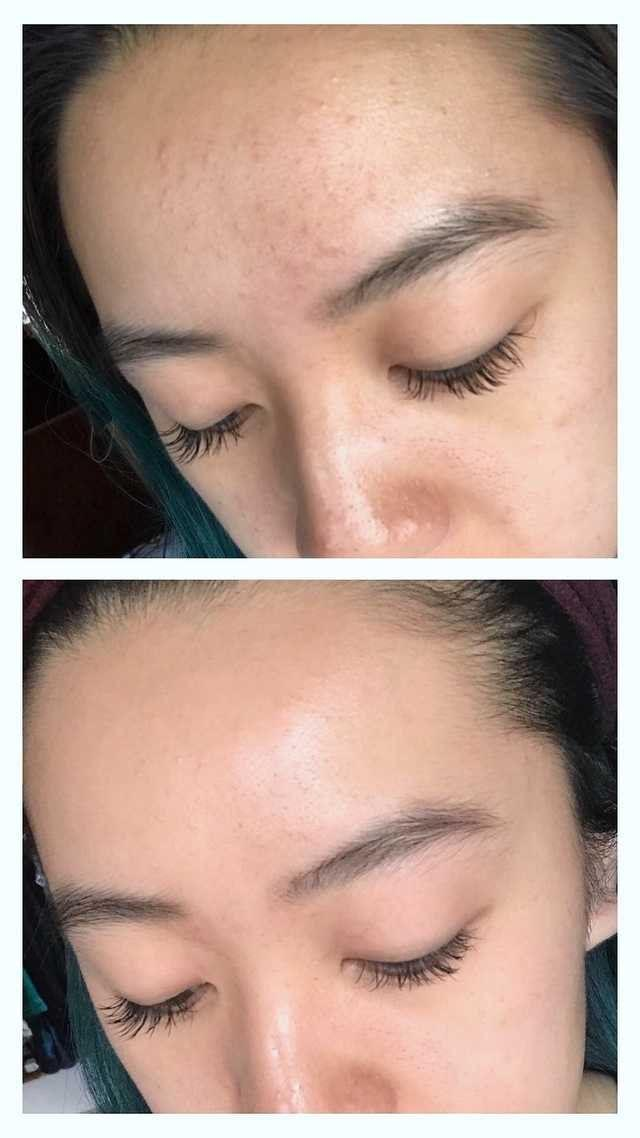Oily-Skin: (68, 624, 580, 852), (194, 901, 378, 1138)
